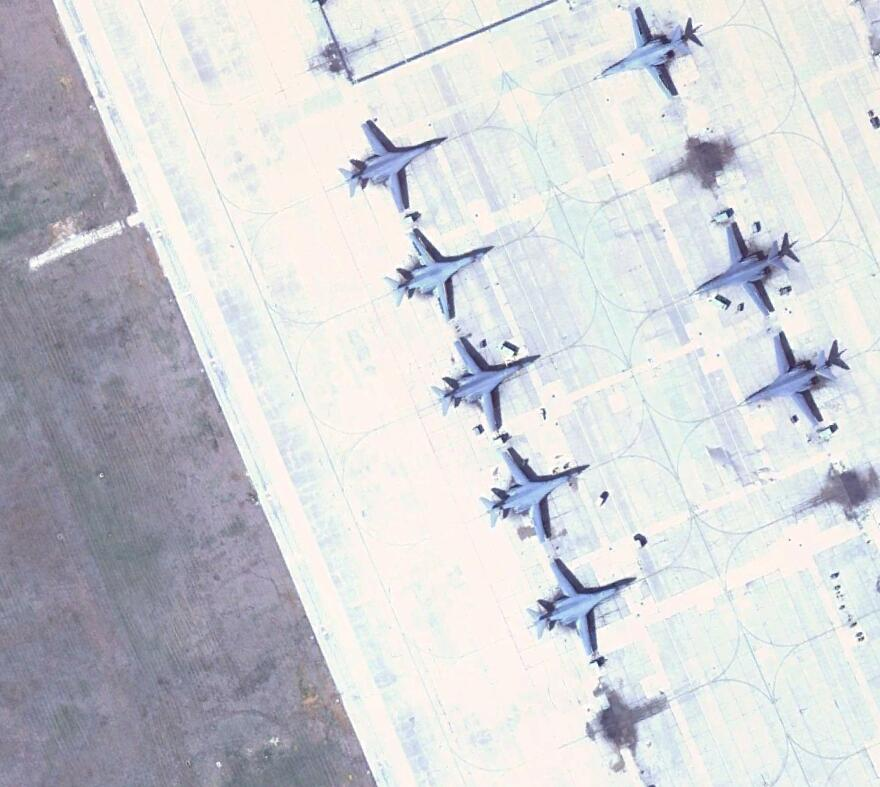A10: (521, 557, 639, 663), (424, 337, 546, 437), (377, 228, 499, 324), (479, 447, 593, 545), (686, 221, 802, 316), (598, 1, 707, 101), (335, 116, 445, 214), (739, 334, 854, 427)
